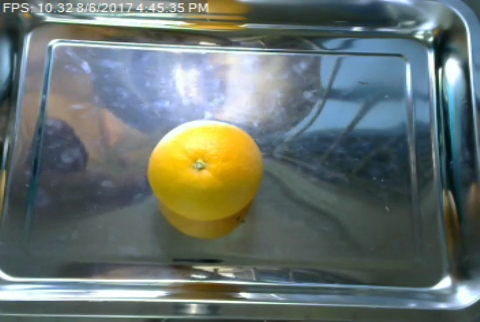Orange: (147, 120, 265, 218)
